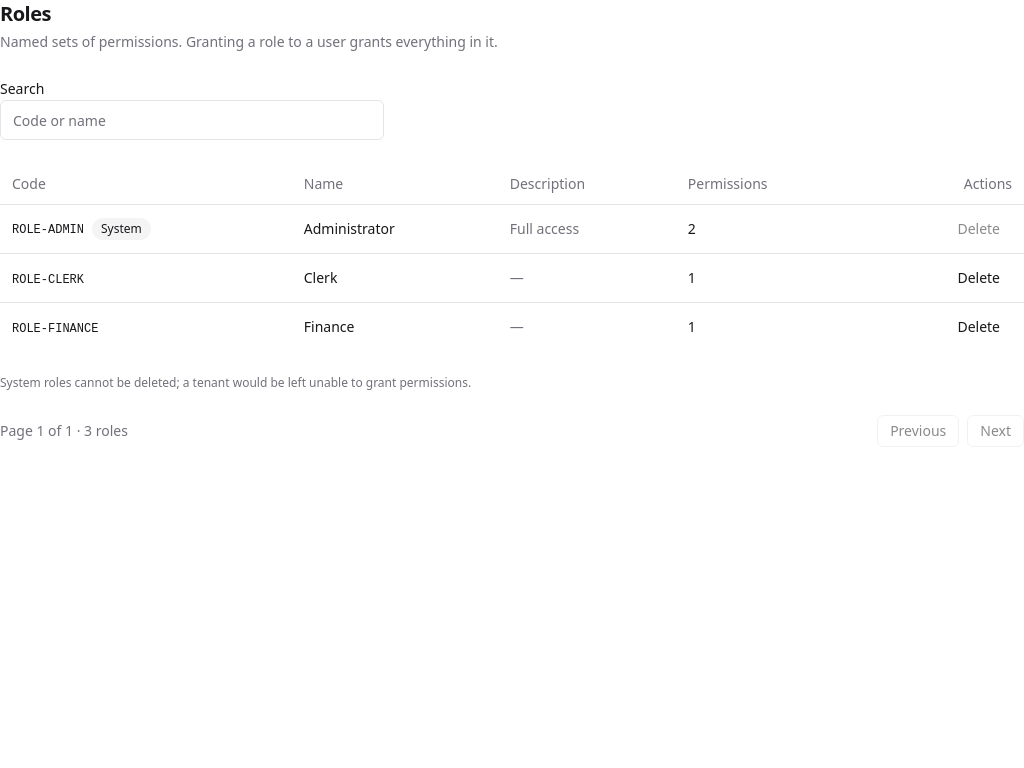
Test: RoleListPage › reassigning a listed task (#512) › reassigns a task from the list, and reads the list again
The width and height of the screenshot is (1024, 768).
Click the button "Delete" in the row of "ROLE-CLERK".
click(979, 278)  # box [945,262,1012,294]
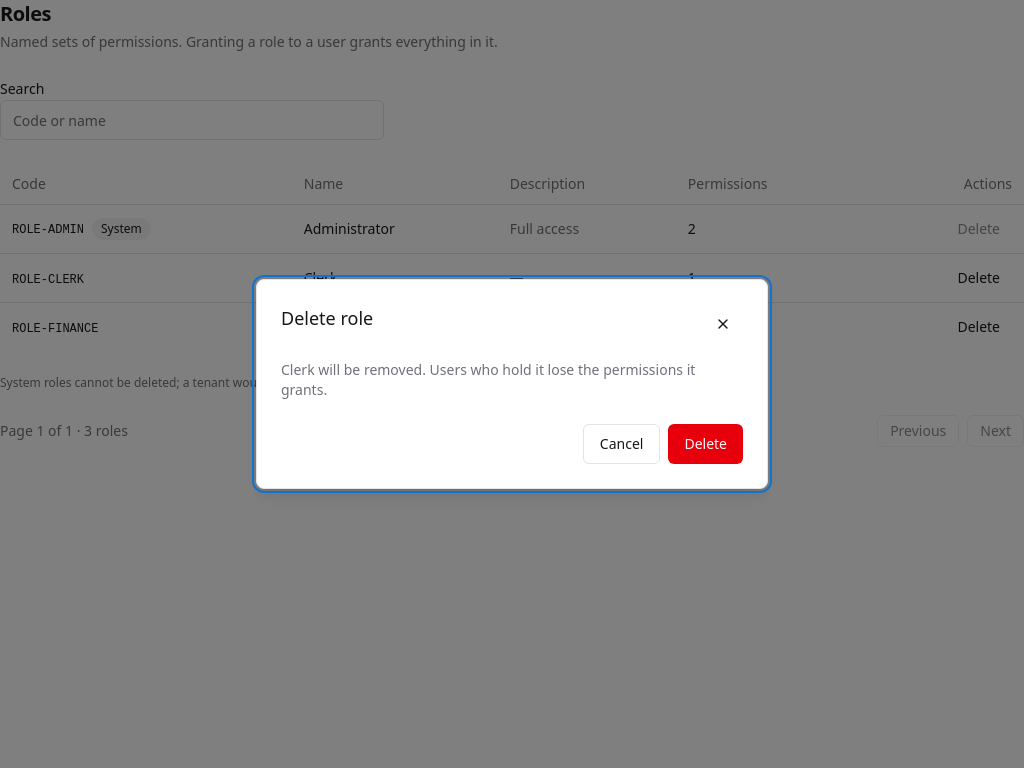
Click the button "Delete".
click(706, 444)  # box [668,424,743,464]
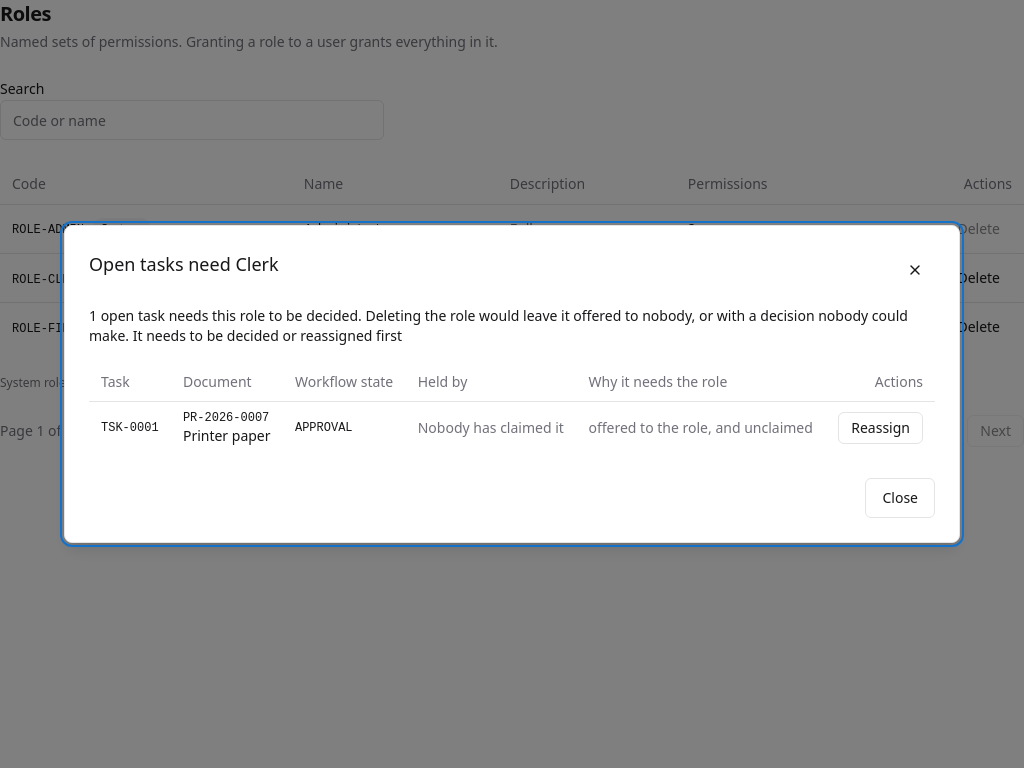
Click the button "Reassign".
click(881, 428)  # box [838,412,923,444]
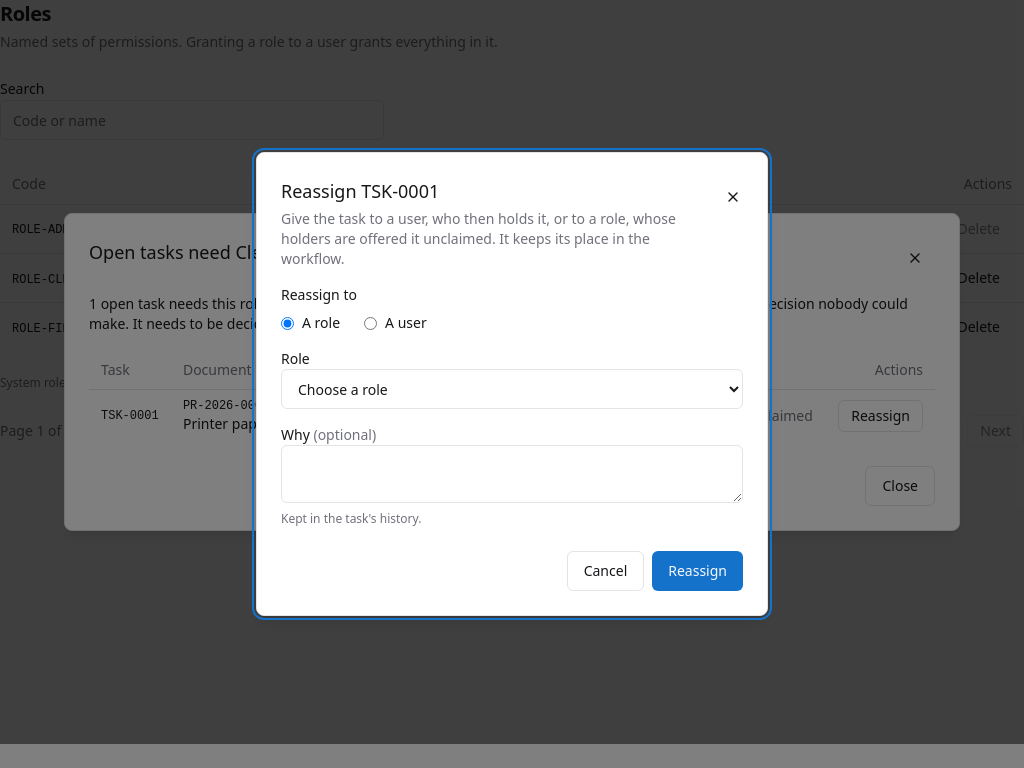
Check: the dialog is shown, box [256,152,768,616]
Select "Finance (ROLE-FINANCE)" in the dropdown with id "reassign-task-role" at (512, 389), box [281,369,743,409]
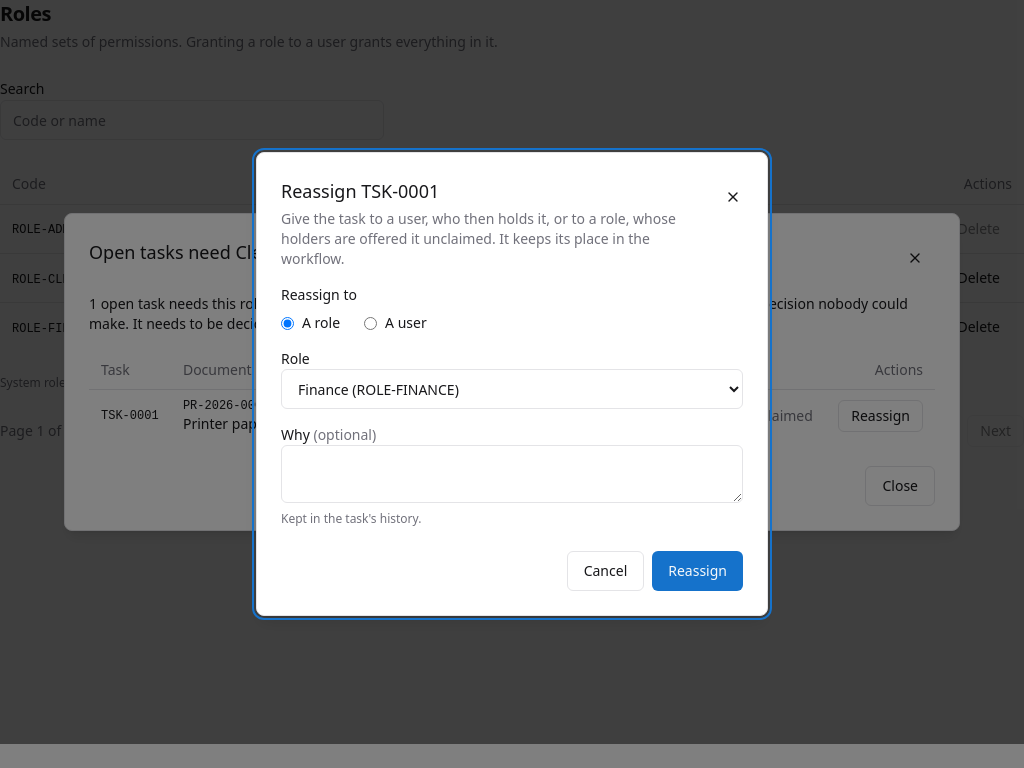
Submit the form, box [281,285,743,527]
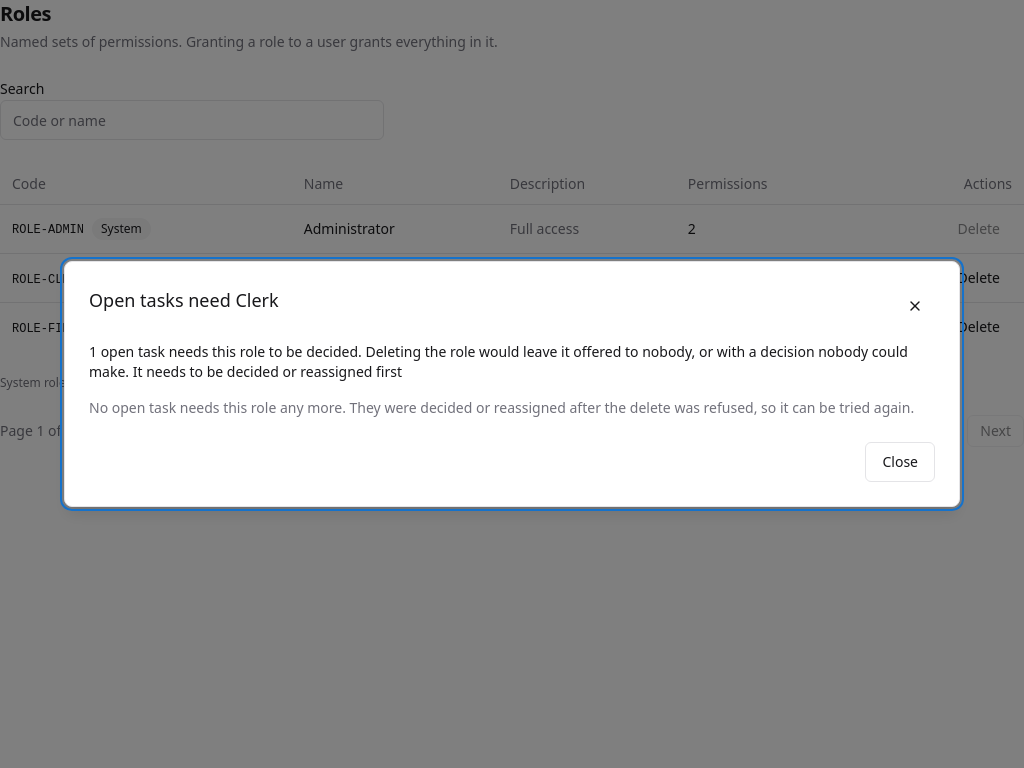
Check: the number of dialogs is 1, box [64,261,960,507]
Check: the text with test id "role-open-tasks-empty" shows "can be tried again", box [89,398,914,417]
